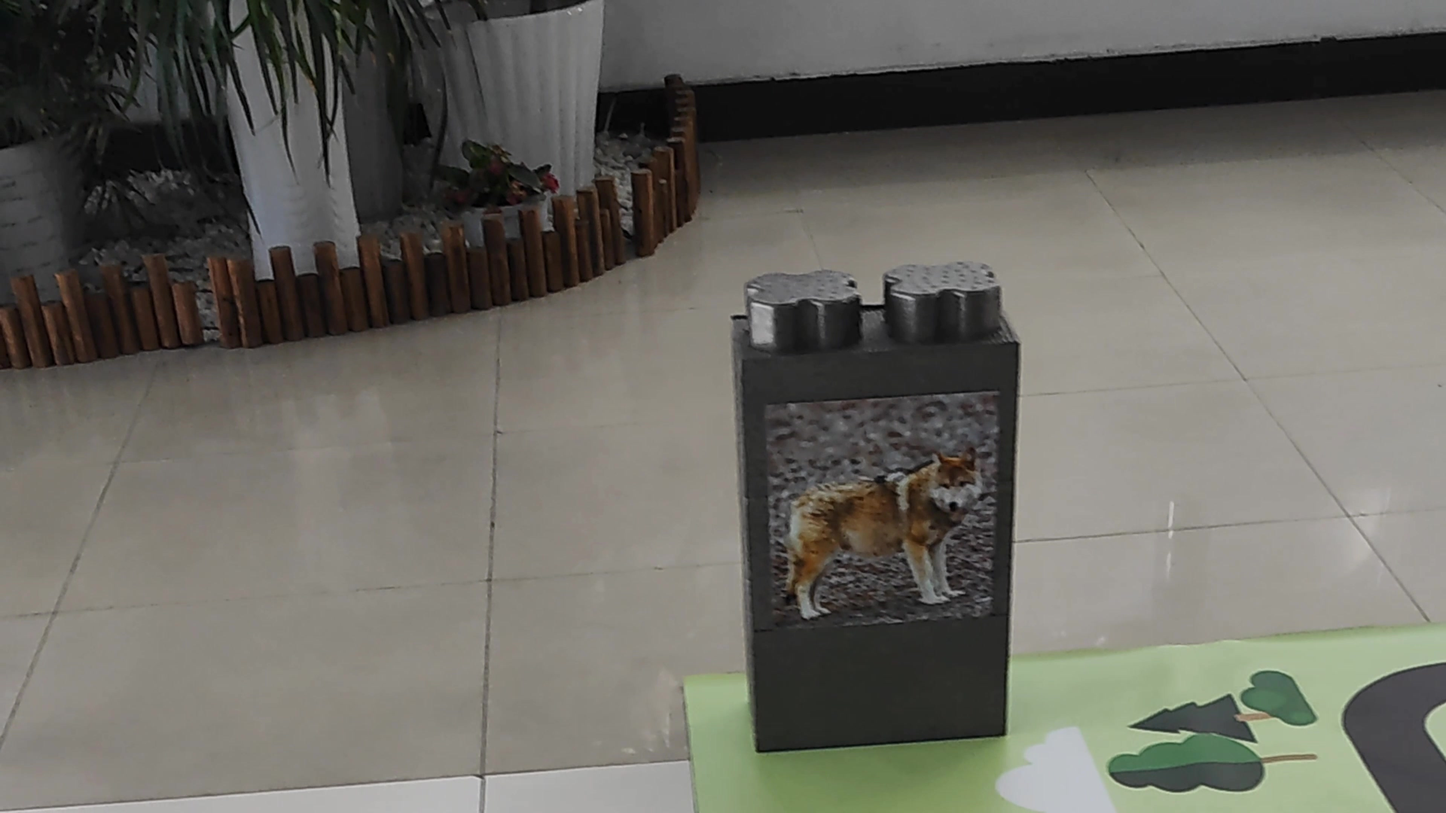wolf: (778, 411, 989, 617)
